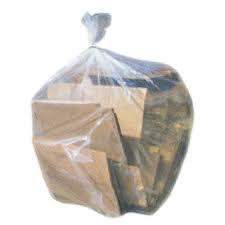Plastic bag: (26, 14, 194, 225)
